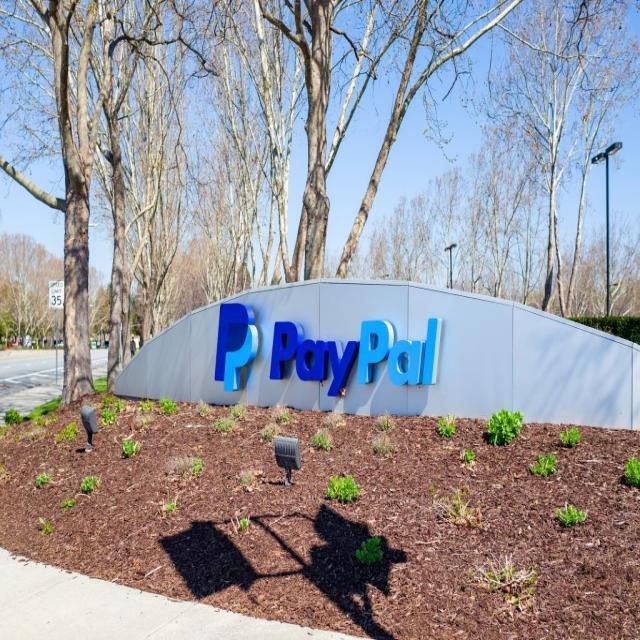paypal: (214, 302, 259, 393)
paypal_txt: (269, 318, 442, 397)
